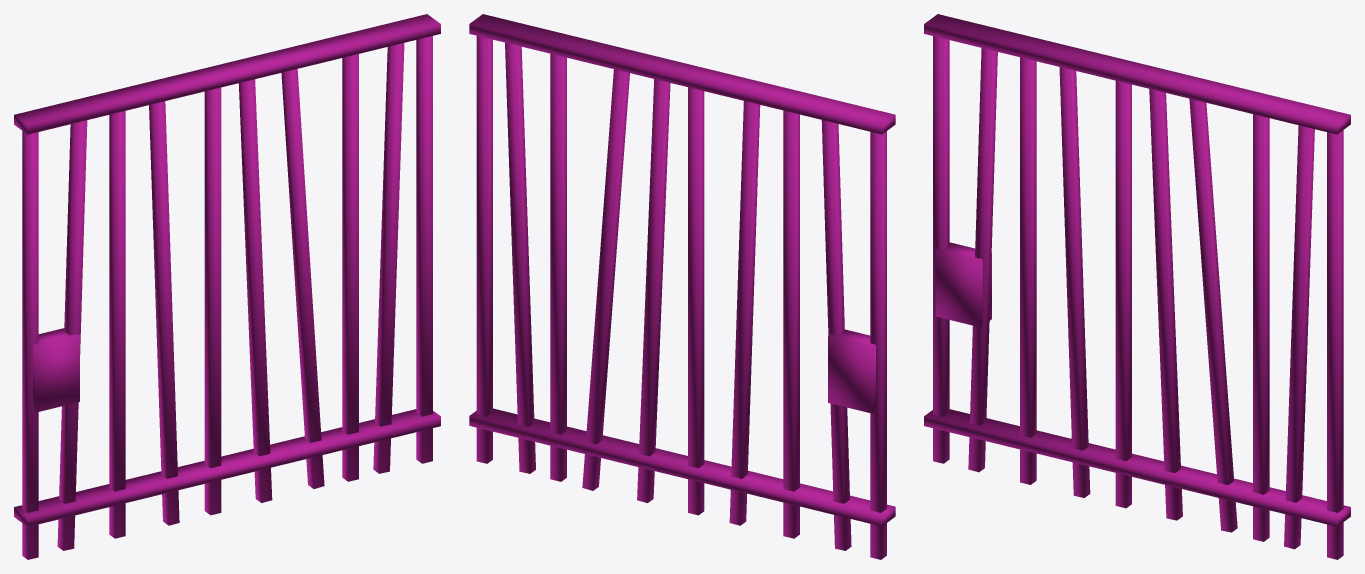
The model's file is puertaruina.obj.
The picture shows the model from 3 angles, left to right: view 1: azimuth 30°, elevation 25°; view 2: azimuth 150°, elevation 25°; view 3: azimuth 330°, elevation 25°; orthographic projection.
Parts seen in each view (by area): view 1: puertaruina; view 2: puertaruina; view 3: puertaruina.
Boxes of the visible parts, box(x1,y1,x2,y2) form: puertaruina: box(14, 14, 440, 559); puertaruina: box(469, 14, 895, 559); puertaruina: box(924, 14, 1350, 559).
Bounding box in the file's own units: 14.62 × 14.87 × 0.839.
